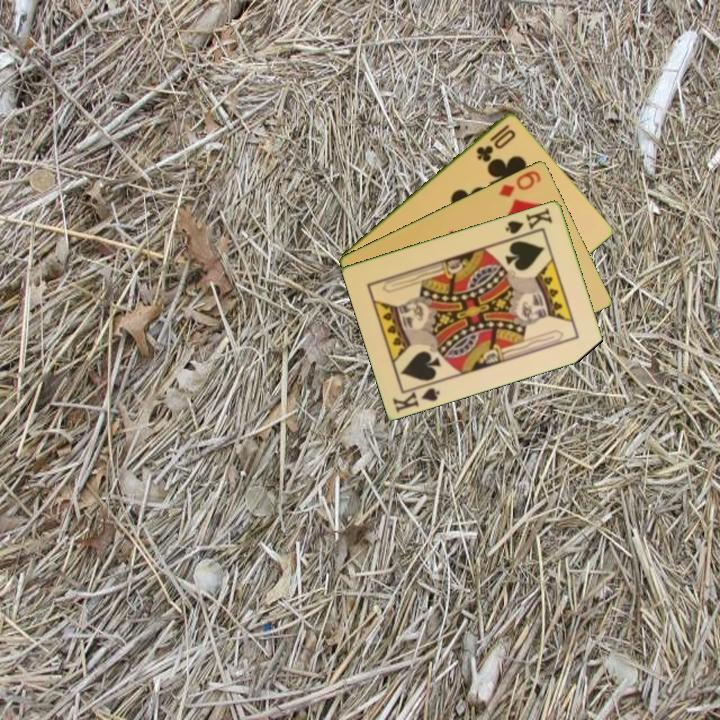10c: (473, 120, 519, 165)
6d: (495, 167, 544, 200)
Ks: (502, 204, 556, 241), (389, 378, 443, 415)
